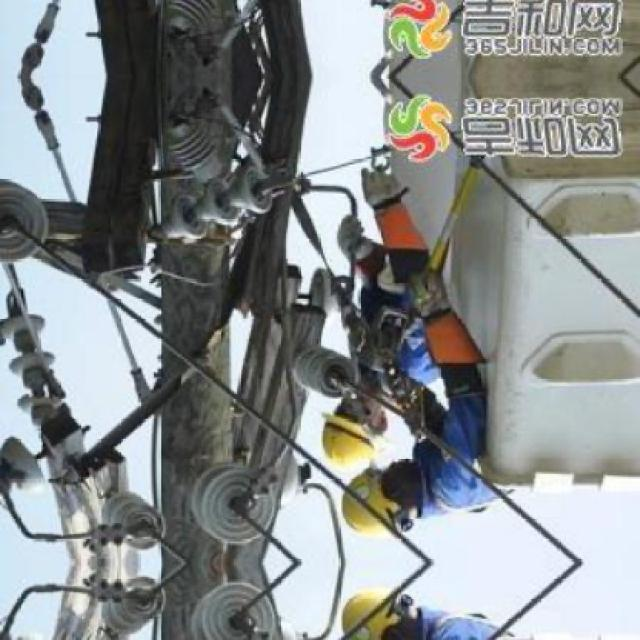con casco: (320, 427, 536, 551), (314, 407, 411, 466)
